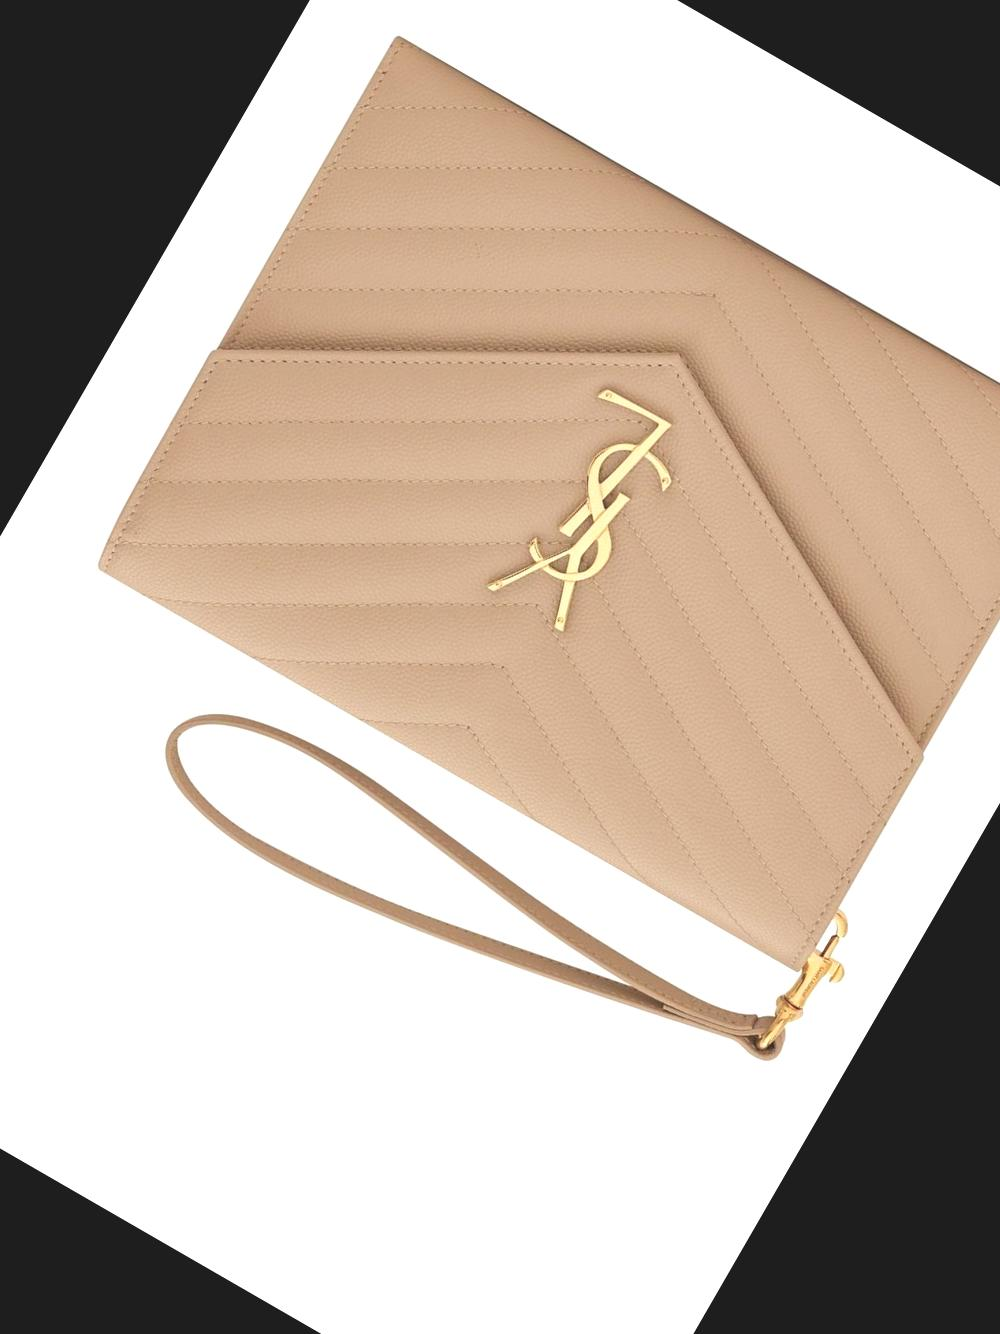YVES-SAINT-LAURENT: (485, 384, 695, 640)
